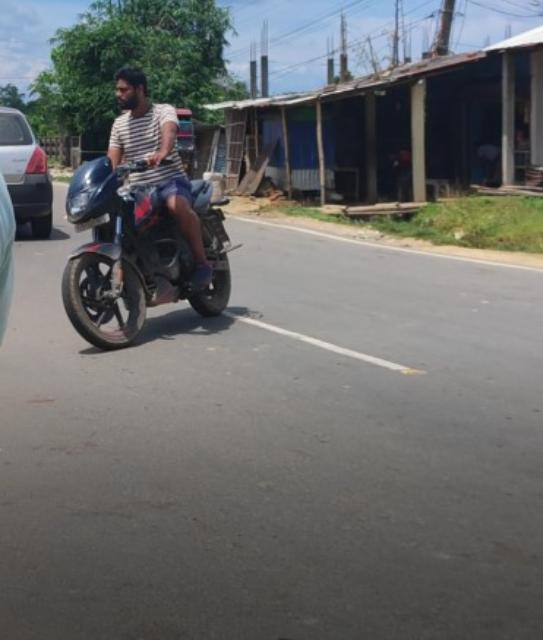motorcycle: (63, 59, 237, 351)
withoutHelmet: (111, 66, 149, 107)
